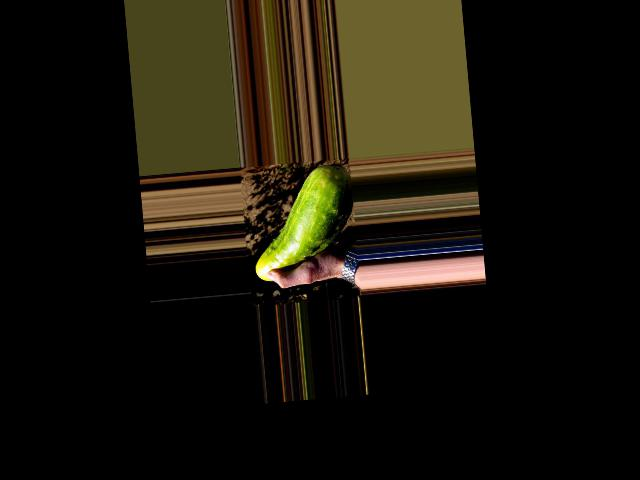cucumber: (247, 161, 360, 282)
